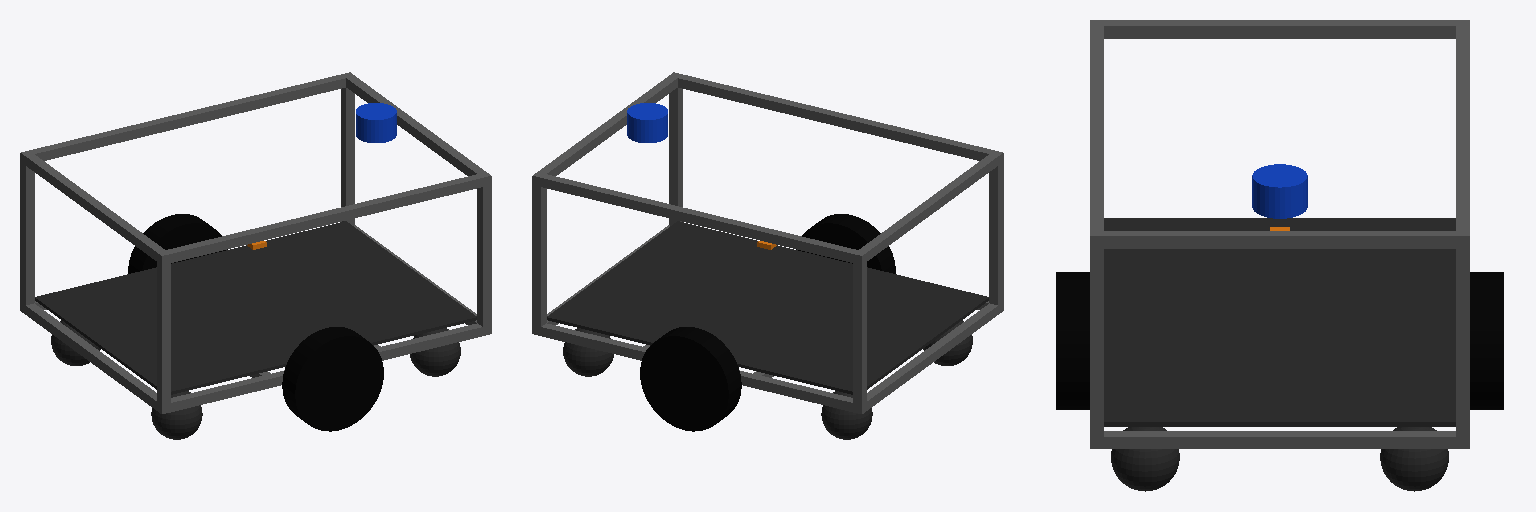
URDF robot description (amr_robot):
<?xml version="1.0" ?>
<!-- =================================================================================== -->
<!-- |    This document was autogenerated by xacro from /sessions/bold-wizardly-pasteur/tmp/tmp287tvy43/robot.urdf.xacro | -->
<!-- |    EDITING THIS FILE BY HAND IS NOT RECOMMENDED                                 | -->
<!-- =================================================================================== -->
<!-- =========================================================================
     robot.urdf.xacro  FILE CHINH (top-level)
     AMR differential-drive: 2 banh chinh co motor + 4 caster bi cau tu do.
     Cay frame chuan Nav2:
       base_footprint -> base_link -> (wheels, casters, lidar, imu)
     Build: xacro robot.urdf.xacro use_sim:=true > robot.urdf
     ========================================================================= -->
<robot name="amr_robot">
  <!-- UOC LUONG: doi theo can that -->
  <material name="grey">
    <color rgba="0.4 0.4 0.4 1.0"/>
  </material>
  <material name="dark_grey">
    <color rgba="0.2 0.2 0.2 1.0"/>
  </material>
  <material name="orange">
    <color rgba="0.9 0.5 0.1 1.0"/>
  </material>
  <material name="black">
    <color rgba="0.05 0.05 0.05 1.0"/>
  </material>
  <material name="blue">
    <color rgba="0.1 0.3 0.8 1.0"/>
  </material>
  <material name="white">
    <color rgba="0.9 0.9 0.9 1.0"/>
  </material>
  <link name="lidar_link">
    <visual>
      <geometry>
        <cylinder length="0.05" radius="0.04"/>
      </geometry>
      <material name="blue"/>
    </visual>
    <collision>
      <geometry>
        <cylinder length="0.05" radius="0.04"/>
      </geometry>
    </collision>
    <inertial>
      <mass value="0.2"/>
      <inertia ixx="0.00012166666666666667" ixy="0.0" ixz="0.0" iyy="0.00012166666666666667" iyz="0.0" izz="0.00016"/>
    </inertial>
  </link>
  <joint name="lidar_joint" type="fixed">
    <parent link="base_link"/>
    <child link="lidar_link"/>
    <origin rpy="0 0 0" xyz="0.27 0 0.195"/>
  </joint>
  <gazebo reference="lidar_link">
    <material>Gazebo/Blue</material>
    <sensor name="lidar" type="ray">
      <pose>0 0 0 0 0 0</pose>
      <visualize>true</visualize>
      <update_rate>10</update_rate>
      <ray>
        <scan>
          <horizontal>
            <samples>360</samples>
            <resolution>1.0</resolution>
            <min_angle>-3.141592</min_angle>
            <max_angle>3.141592</max_angle>
          </horizontal>
        </scan>
        <range>
          <min>0.12</min>
          <max>12.0</max>
          <resolution>0.01</resolution>
        </range>
        <noise>
          <type>gaussian</type>
          <mean>0.0</mean>
          <stddev>0.01</stddev>
        </noise>
      </ray>
      <plugin filename="libgazebo_ros_ray_sensor.so" name="lidar_controller">
        <ros>
          <remapping>~/out:=scan</remapping>
        </ros>
        <output_type>sensor_msgs/LaserScan</output_type>
        <frame_name>lidar_link</frame_name>
      </plugin>
    </sensor>
  </gazebo>
  <!-- ============================== IMU =============================== -->
  <link name="imu_link">
    <visual>
      <geometry>
        <box size="0.03 0.03 0.01"/>
      </geometry>
      <material name="orange"/>
    </visual>
    <inertial>
      <mass value="0.05"/>
      <inertia ixx="4.166666666666667e-06" ixy="0.0" ixz="0.0" iyy="4.166666666666667e-06" iyz="0.0" izz="7.499999999999999e-06"/>
    </inertial>
  </link>
  <joint name="imu_joint" type="fixed">
    <parent link="base_link"/>
    <child link="imu_link"/>
    <origin rpy="0 0 0" xyz="0 0 0"/>
  </joint>
  <gazebo reference="imu_link">
    <sensor name="imu_sensor" type="imu">
      <always_on>true</always_on>
      <update_rate>100</update_rate>
      <plugin filename="libgazebo_ros_imu_sensor.so" name="imu_plugin">
        <ros>
          <remapping>~/out:=imu/data</remapping>
        </ros>
        <initial_orientation_as_reference>false</initial_orientation_as_reference>
      </plugin>
    </sensor>
  </gazebo>
  <!-- ===== base_footprint (cho Nav2/odom) ===== -->
  <link name="base_footprint"/>
  <joint name="base_joint" type="fixed">
    <parent link="base_footprint"/>
    <child link="base_link"/>
    <origin rpy="0 0 0" xyz="0 0 0.27"/>
  </joint>
  <!-- ===== base_link (than xe) ===== -->
  <link name="base_link">
    <visual>
      <origin rpy="0 0 0" xyz="0 0.265 -0.16"/>
      <geometry>
        <box size="0.74 0.02 0.02"/>
      </geometry>
      <material name="grey"/>
    </visual>
    <visual>
      <origin rpy="0 0 0" xyz="0 -0.265 -0.16"/>
      <geometry>
        <box size="0.74 0.02 0.02"/>
      </geometry>
      <material name="grey"/>
    </visual>
    <visual>
      <origin rpy="0 0 0" xyz="0.36 0 -0.16"/>
      <geometry>
        <box size="0.02 0.51 0.02"/>
      </geometry>
      <material name="grey"/>
    </visual>
    <visual>
      <origin rpy="0 0 0" xyz="-0.36 0 -0.16"/>
      <geometry>
        <box size="0.02 0.51 0.02"/>
      </geometry>
      <material name="grey"/>
    </visual>
    <visual>
      <origin rpy="0 0 0" xyz="0 0.265 0.16"/>
      <geometry>
        <box size="0.74 0.02 0.02"/>
      </geometry>
      <material name="grey"/>
    </visual>
    <visual>
      <origin rpy="0 0 0" xyz="0 -0.265 0.16"/>
      <geometry>
        <box size="0.74 0.02 0.02"/>
      </geometry>
      <material name="grey"/>
    </visual>
    <visual>
      <origin rpy="0 0 0" xyz="0.36 0 0.16"/>
      <geometry>
        <box size="0.02 0.51 0.02"/>
      </geometry>
      <material name="grey"/>
    </visual>
    <visual>
      <origin rpy="0 0 0" xyz="-0.36 0 0.16"/>
      <geometry>
        <box size="0.02 0.51 0.02"/>
      </geometry>
      <material name="grey"/>
    </visual>
    <visual>
      <origin rpy="0 0 0" xyz="0.36 0.265 0"/>
      <geometry>
        <box size="0.02 0.02 0.30000000000000004"/>
      </geometry>
      <material name="grey"/>
    </visual>
    <visual>
      <origin rpy="0 0 0" xyz="0.36 -0.265 0"/>
      <geometry>
        <box size="0.02 0.02 0.30000000000000004"/>
      </geometry>
      <material name="grey"/>
    </visual>
    <visual>
      <origin rpy="0 0 0" xyz="-0.36 0.265 0"/>
      <geometry>
        <box size="0.02 0.02 0.30000000000000004"/>
      </geometry>
      <material name="grey"/>
    </visual>
    <visual>
      <origin rpy="0 0 0" xyz="-0.36 -0.265 0"/>
      <geometry>
        <box size="0.02 0.02 0.30000000000000004"/>
      </geometry>
      <material name="grey"/>
    </visual>
    <visual>
      <origin rpy="0 0 0" xyz="0.12333333333333334 0 -0.16"/>
      <geometry>
        <box size="0.02 0.51 0.02"/>
      </geometry>
      <material name="grey"/>
    </visual>
    <visual>
      <origin rpy="0 0 0" xyz="-0.12333333333333334 0 -0.16"/>
      <geometry>
        <box size="0.02 0.51 0.02"/>
      </geometry>
      <material name="grey"/>
    </visual>
    <!-- 1 tấm đáy mỏng tượng trưng cho mặt sàn lắp thiết bị (mờ, mỏng) -->
    <visual>
      <origin rpy="0 0 0" xyz="0 0 -0.14"/>
      <geometry>
        <box size="0.7 0.51 0.006666666666666667"/>
      </geometry>
      <material name="dark_grey"/>
    </visual>
    <!-- COLLISION = 1 khoi hop bao ngoai (don gian, nhe, an toan cho Nav2). -->
    <collision>
      <origin rpy="0 0 0" xyz="0 0 0"/>
      <geometry>
        <box size="0.74 0.55 0.34"/>
      </geometry>
    </collision>
    <inertial>
      <mass value="40.0"/>
      <inertia ixx="1.393666666666667" ixy="0.0" ixz="0.0" iyy="2.210666666666667" iyz="0.0" izz="2.8336666666666672"/>
    </inertial>
  </link>
  <gazebo reference="base_link">
    <material>Gazebo/Grey</material>
  </gazebo>
  <link name="left_wheel_link">
    <visual>
      <!-- cylinder mặc định trục theo Z; xoay 90° quanh X để trục về Y -->
      <origin rpy="1.5707963267948966 0 0" xyz="0 0 0"/>
      <geometry>
        <cylinder length="0.05" radius="0.1"/>
      </geometry>
      <material name="black"/>
    </visual>
    <collision>
      <origin rpy="1.5707963267948966 0 0" xyz="0 0 0"/>
      <geometry>
        <cylinder length="0.05" radius="0.1"/>
      </geometry>
    </collision>
    <inertial>
      <mass value="2.0"/>
      <inertia ixx="0.005416666666666668" ixy="0.0" ixz="0.0" iyy="0.005416666666666668" iyz="0.0" izz="0.010000000000000002"/>
    </inertial>
  </link>
  <!-- joint quay liên tục quanh trục Y của bánh -->
  <joint name="left_wheel_joint" type="continuous">
    <parent link="base_link"/>
    <child link="left_wheel_link"/>
    <!-- đặt bánh sát hông: y = +/- wheel_separation/2 ; z = xuống tới tâm trục -->
    <origin rpy="0 0 0" xyz="0.0 0.30000000000000004 -0.17"/>
    <axis xyz="0 1 0"/>
    <limit effort="100.0" velocity="20.0"/>
    <dynamics damping="0.05" friction="0.1"/>
  </joint>
  <!-- thuộc tính Gazebo cho bánh: ma sát cao để không trượt -->
  <gazebo reference="left_wheel_link">
    <mu1>1.0</mu1>
    <mu2>1.0</mu2>
    <kp>1000000.0</kp>
    <kd>100.0</kd>
    <material>Gazebo/Black</material>
  </gazebo>
  <link name="right_wheel_link">
    <visual>
      <!-- cylinder mặc định trục theo Z; xoay 90° quanh X để trục về Y -->
      <origin rpy="1.5707963267948966 0 0" xyz="0 0 0"/>
      <geometry>
        <cylinder length="0.05" radius="0.1"/>
      </geometry>
      <material name="black"/>
    </visual>
    <collision>
      <origin rpy="1.5707963267948966 0 0" xyz="0 0 0"/>
      <geometry>
        <cylinder length="0.05" radius="0.1"/>
      </geometry>
    </collision>
    <inertial>
      <mass value="2.0"/>
      <inertia ixx="0.005416666666666668" ixy="0.0" ixz="0.0" iyy="0.005416666666666668" iyz="0.0" izz="0.010000000000000002"/>
    </inertial>
  </link>
  <!-- joint quay liên tục quanh trục Y của bánh -->
  <joint name="right_wheel_joint" type="continuous">
    <parent link="base_link"/>
    <child link="right_wheel_link"/>
    <!-- đặt bánh sát hông: y = +/- wheel_separation/2 ; z = xuống tới tâm trục -->
    <origin rpy="0 0 0" xyz="0.0 -0.30000000000000004 -0.17"/>
    <axis xyz="0 1 0"/>
    <limit effort="100.0" velocity="20.0"/>
    <dynamics damping="0.05" friction="0.1"/>
  </joint>
  <!-- thuộc tính Gazebo cho bánh: ma sát cao để không trượt -->
  <gazebo reference="right_wheel_link">
    <mu1>1.0</mu1>
    <mu2>1.0</mu2>
    <kp>1000000.0</kp>
    <kd>100.0</kd>
    <material>Gazebo/Black</material>
  </gazebo>
  <link name="front_left_caster_link">
    <visual>
      <geometry>
        <sphere radius="0.05"/>
      </geometry>
      <material name="dark_grey"/>
    </visual>
    <collision>
      <geometry>
        <sphere radius="0.05"/>
      </geometry>
    </collision>
    <inertial>
      <mass value="0.5"/>
      <inertia ixx="0.0005000000000000001" ixy="0.0" ixz="0.0" iyy="0.0005000000000000001" iyz="0.0" izz="0.0005000000000000001"/>
    </inertial>
  </link>
  <!-- fixed joint: bi cầu lăn tự do nhờ ma sát thấp (mu≈0), không cần motor/joint quay -->
  <joint name="front_left_caster_joint" type="fixed">
    <parent link="base_link"/>
    <child link="front_left_caster_link"/>
    <origin rpy="0 0 0" xyz="0.29 0.195 -0.22000000000000003"/>
  </joint>
  <!-- ma sát ~0 để bi trượt/lăn mọi hướng như caster thật -->
  <gazebo reference="front_left_caster_link">
    <mu1>0.0</mu1>
    <mu2>0.0</mu2>
    <kp>1000000.0</kp>
    <kd>100.0</kd>
    <material>Gazebo/Grey</material>
  </gazebo>
  <link name="front_right_caster_link">
    <visual>
      <geometry>
        <sphere radius="0.05"/>
      </geometry>
      <material name="dark_grey"/>
    </visual>
    <collision>
      <geometry>
        <sphere radius="0.05"/>
      </geometry>
    </collision>
    <inertial>
      <mass value="0.5"/>
      <inertia ixx="0.0005000000000000001" ixy="0.0" ixz="0.0" iyy="0.0005000000000000001" iyz="0.0" izz="0.0005000000000000001"/>
    </inertial>
  </link>
  <!-- fixed joint: bi cầu lăn tự do nhờ ma sát thấp (mu≈0), không cần motor/joint quay -->
  <joint name="front_right_caster_joint" type="fixed">
    <parent link="base_link"/>
    <child link="front_right_caster_link"/>
    <origin rpy="0 0 0" xyz="0.29 -0.195 -0.22000000000000003"/>
  </joint>
  <!-- ma sát ~0 để bi trượt/lăn mọi hướng như caster thật -->
  <gazebo reference="front_right_caster_link">
    <mu1>0.0</mu1>
    <mu2>0.0</mu2>
    <kp>1000000.0</kp>
    <kd>100.0</kd>
    <material>Gazebo/Grey</material>
  </gazebo>
  <link name="rear_left_caster_link">
    <visual>
      <geometry>
        <sphere radius="0.05"/>
      </geometry>
      <material name="dark_grey"/>
    </visual>
    <collision>
      <geometry>
        <sphere radius="0.05"/>
      </geometry>
    </collision>
    <inertial>
      <mass value="0.5"/>
      <inertia ixx="0.0005000000000000001" ixy="0.0" ixz="0.0" iyy="0.0005000000000000001" iyz="0.0" izz="0.0005000000000000001"/>
    </inertial>
  </link>
  <!-- fixed joint: bi cầu lăn tự do nhờ ma sát thấp (mu≈0), không cần motor/joint quay -->
  <joint name="rear_left_caster_joint" type="fixed">
    <parent link="base_link"/>
    <child link="rear_left_caster_link"/>
    <origin rpy="0 0 0" xyz="-0.29 0.195 -0.22000000000000003"/>
  </joint>
  <!-- ma sát ~0 để bi trượt/lăn mọi hướng như caster thật -->
  <gazebo reference="rear_left_caster_link">
    <mu1>0.0</mu1>
    <mu2>0.0</mu2>
    <kp>1000000.0</kp>
    <kd>100.0</kd>
    <material>Gazebo/Grey</material>
  </gazebo>
  <link name="rear_right_caster_link">
    <visual>
      <geometry>
        <sphere radius="0.05"/>
      </geometry>
      <material name="dark_grey"/>
    </visual>
    <collision>
      <geometry>
        <sphere radius="0.05"/>
      </geometry>
    </collision>
    <inertial>
      <mass value="0.5"/>
      <inertia ixx="0.0005000000000000001" ixy="0.0" ixz="0.0" iyy="0.0005000000000000001" iyz="0.0" izz="0.0005000000000000001"/>
    </inertial>
  </link>
  <!-- fixed joint: bi cầu lăn tự do nhờ ma sát thấp (mu≈0), không cần motor/joint quay -->
  <joint name="rear_right_caster_joint" type="fixed">
    <parent link="base_link"/>
    <child link="rear_right_caster_link"/>
    <origin rpy="0 0 0" xyz="-0.29 -0.195 -0.22000000000000003"/>
  </joint>
  <!-- ma sát ~0 để bi trượt/lăn mọi hướng như caster thật -->
  <gazebo reference="rear_right_caster_link">
    <mu1>0.0</mu1>
    <mu2>0.0</mu2>
    <kp>1000000.0</kp>
    <kd>100.0</kd>
    <material>Gazebo/Grey</material>
  </gazebo>
  <ros2_control name="AMRSystem" type="system">
    <hardware>
      <!-- ===== HARDWARE THAT: doi plugin nay thanh driver that cua ban ===== -->
      <plugin>diffdrive_arduino/DiffDriveArduinoHardware</plugin>
      <param name="left_wheel_name">left_wheel_joint</param>
      <param name="right_wheel_name">right_wheel_joint</param>
      <param name="device">/dev/ttyUSB0</param>
      <param name="baud_rate">57600</param>
      <param name="timeout_ms">1000</param>
      <param name="enc_counts_per_rev">3436</param>
    </hardware>
    <!-- Banh trai -->
    <joint name="left_wheel_joint">
      <command_interface name="velocity">
        <param name="min">-20.0</param>
        <param name="max">20.0</param>
      </command_interface>
      <state_interface name="velocity"/>
      <state_interface name="position"/>
    </joint>
    <!-- Banh phai -->
    <joint name="right_wheel_joint">
      <command_interface name="velocity">
        <param name="min">-20.0</param>
        <param name="max">20.0</param>
      </command_interface>
      <state_interface name="velocity"/>
      <state_interface name="position"/>
    </joint>
  </ros2_control>
</robot>

--- Facts derived from the render (not from the file) ---
The picture shows the robot from 3 angles, left to right: view 1: azimuth 30°, elevation 25°; view 2: azimuth 150°, elevation 25°; view 3: azimuth 270°, elevation 25°; orthographic projection.
Model amr_robot with 10 links and 9 joints (2 continuous, 7 fixed), rooted at base_footprint, posed all joints at 0.
Visible links, largest first — view 1: base_link, right_wheel_link, left_wheel_link, lidar_link, rear_right_caster_link, front_right_caster_link, rear_left_caster_link; view 2: base_link, left_wheel_link, right_wheel_link, lidar_link, rear_left_caster_link, front_left_caster_link, rear_right_caster_link; view 3: base_link, left_wheel_link, right_wheel_link, lidar_link, front_left_caster_link, front_right_caster_link.
Boxes of the visible links, x1,y1,x2,y2 form: base_link: [20, 72, 491, 413]; right_wheel_link: [282, 327, 383, 431]; left_wheel_link: [128, 214, 227, 273]; lidar_link: [356, 103, 396, 142]; rear_right_caster_link: [151, 391, 202, 439]; front_right_caster_link: [410, 328, 460, 376]; rear_left_caster_link: [51, 320, 100, 365]; base_link: [532, 72, 1003, 413]; left_wheel_link: [640, 327, 741, 431]; right_wheel_link: [796, 214, 895, 273]; lidar_link: [627, 103, 667, 142]; rear_left_caster_link: [821, 391, 872, 439]; front_left_caster_link: [563, 328, 613, 376]; rear_right_caster_link: [923, 320, 972, 365]; base_link: [1090, 20, 1469, 448]; left_wheel_link: [1470, 272, 1503, 409]; right_wheel_link: [1056, 272, 1089, 409]; lidar_link: [1252, 164, 1307, 218]; front_left_caster_link: [1380, 427, 1448, 491]; front_right_caster_link: [1111, 427, 1179, 491].
Size in the robot's own frame: 0.74 by 0.65 by 0.49 metres.
Geometry: primitives only (box / cylinder / sphere), no mesh files.
